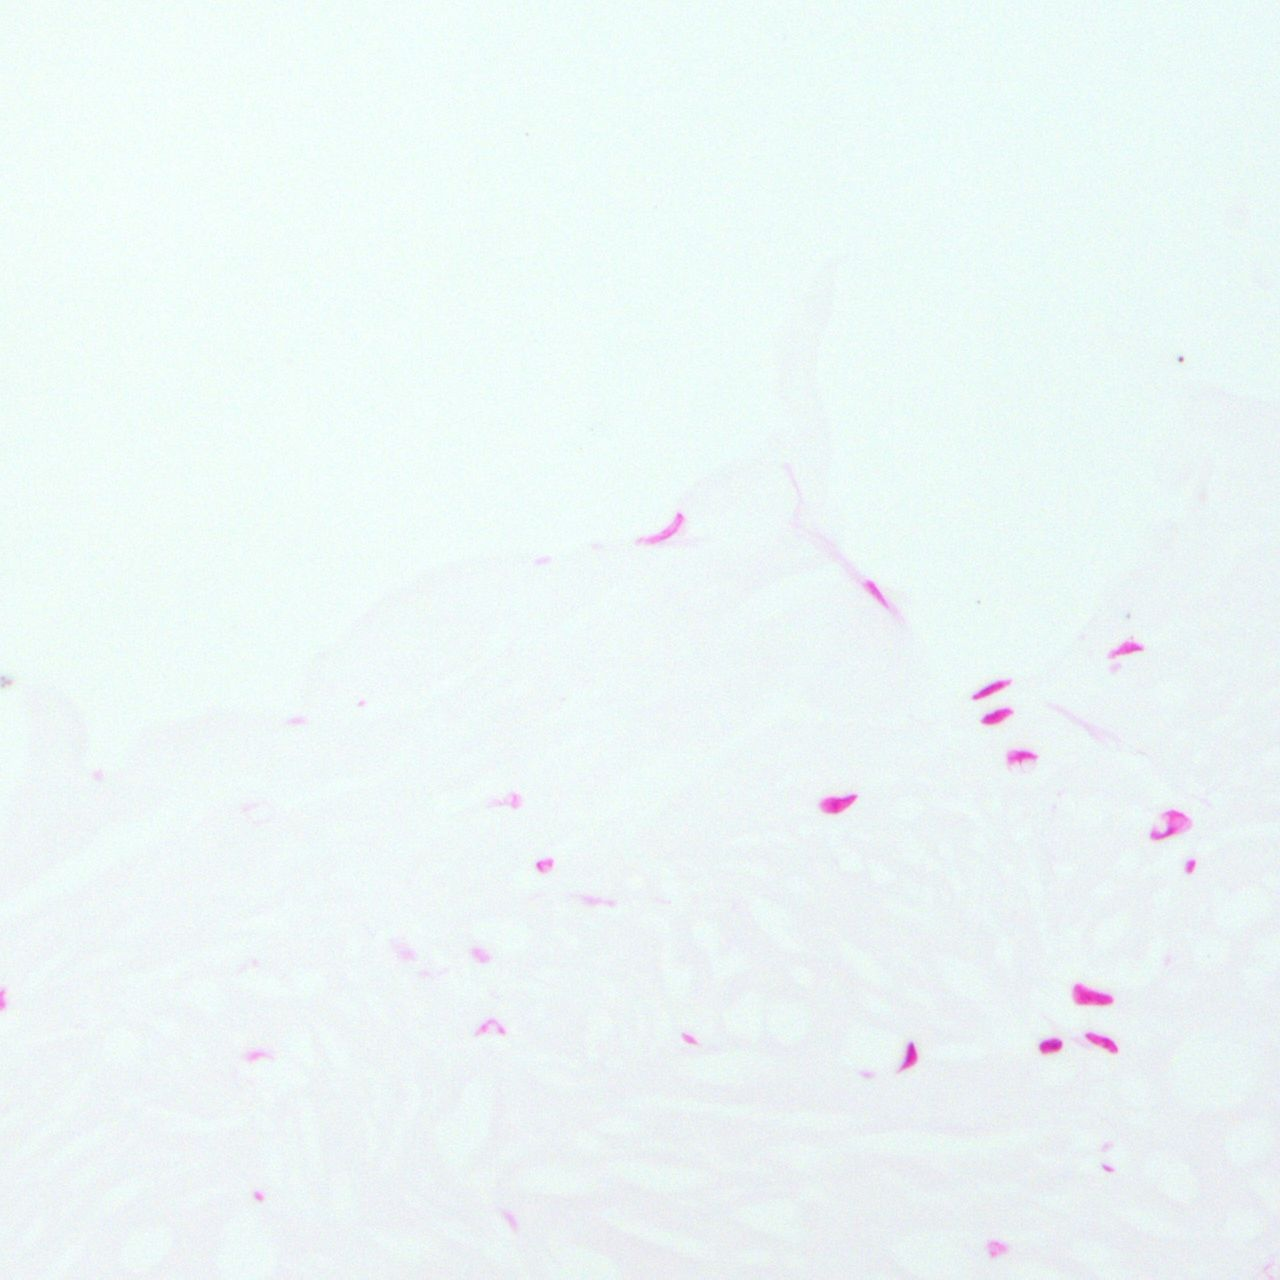dust: (1179, 356, 1184, 361)
nucleus-FG: (1083, 1027, 1121, 1054), (970, 676, 1010, 701), (897, 1039, 923, 1077), (979, 704, 1014, 729), (1105, 638, 1142, 658), (820, 793, 855, 813), (1038, 1036, 1064, 1054)
